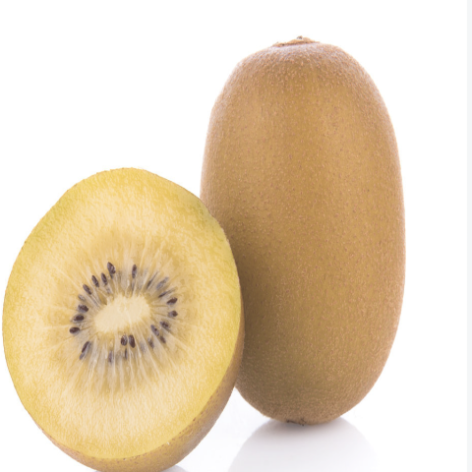kiwi: (165, 21, 445, 469)
